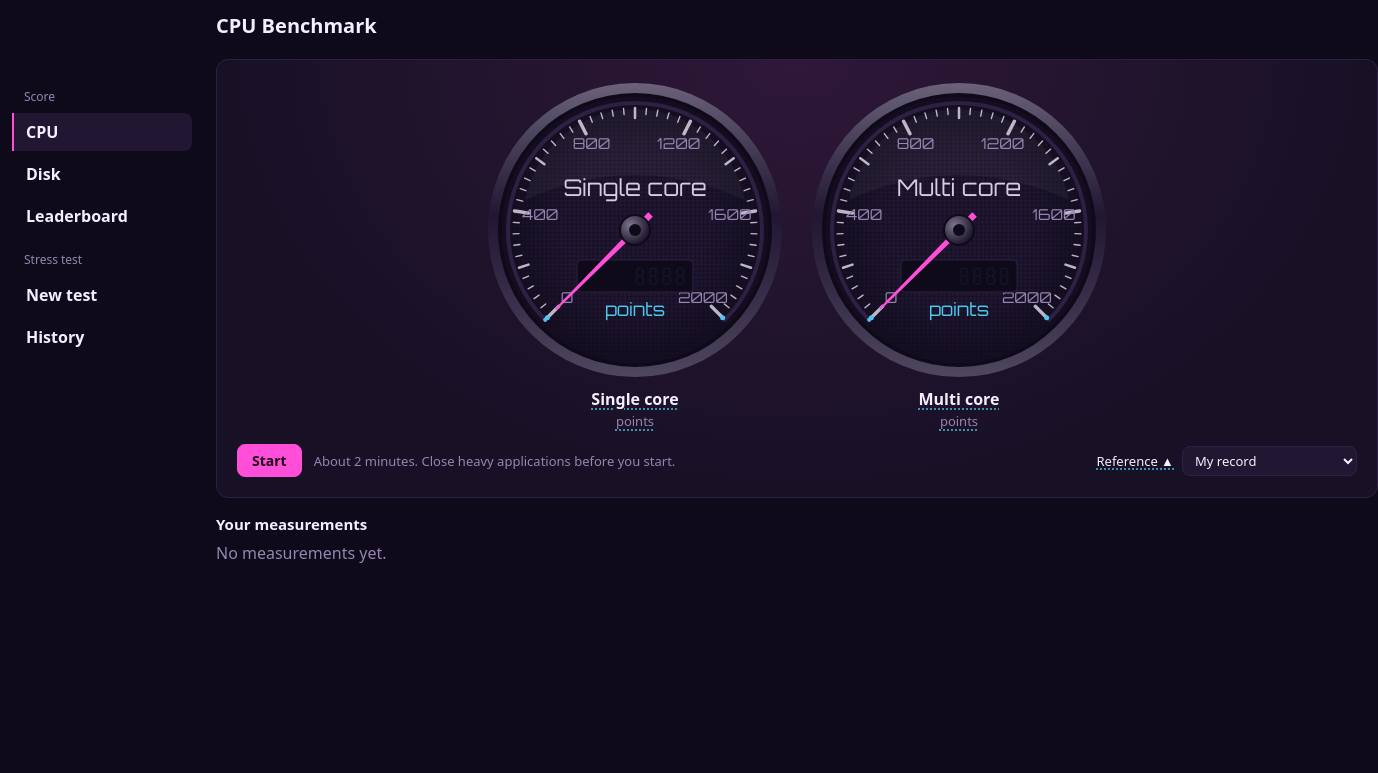
start_runs_and_shows_both_scores
The width and height of the screenshot is (1378, 773).
Expected: the heading "CPU Benchmark" is shown, [216,12,377,39]
Step 1. Click the button "Start" → (269, 460), box [237,444,302,477]
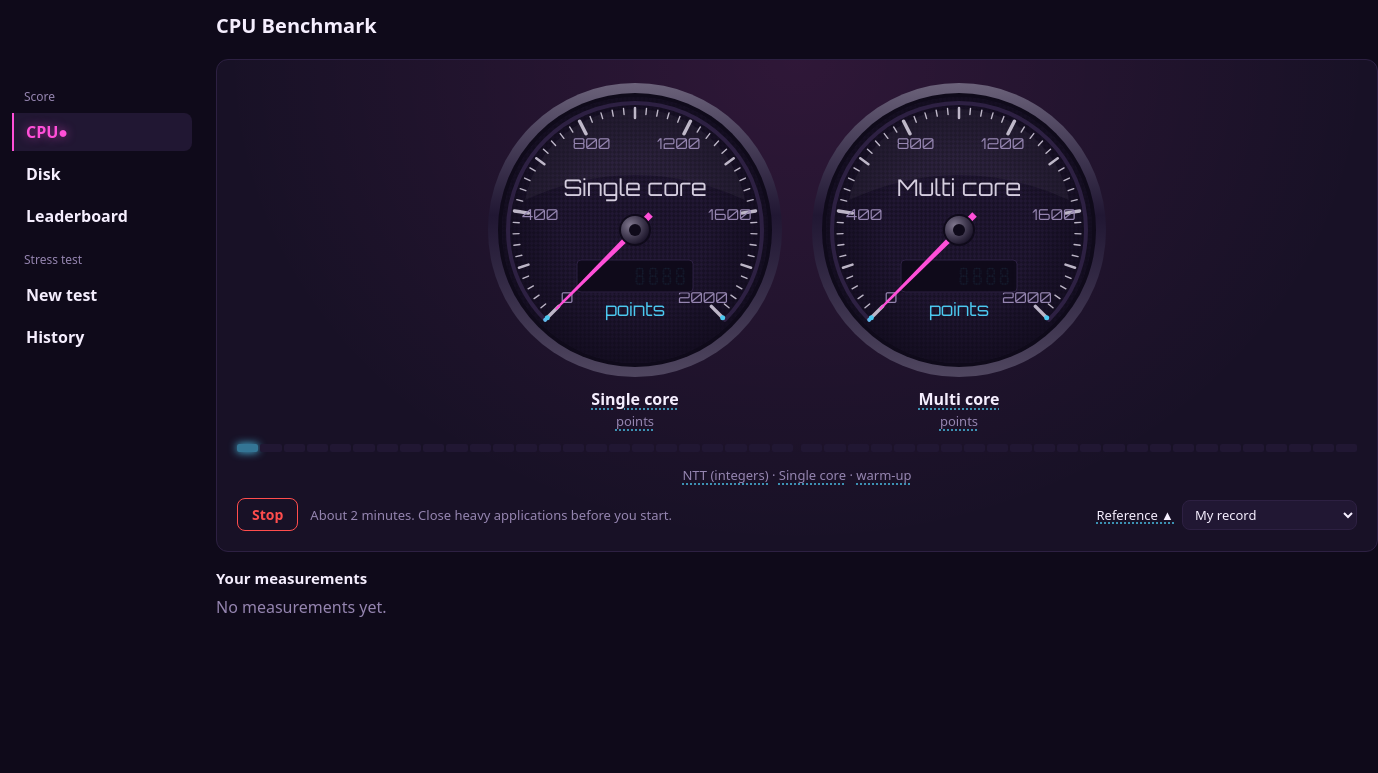
Now the button "CPU●" is shown, box [12,113,192,151]
Step 2. Click the button "Stop" → (268, 514), box [237,498,298,531]
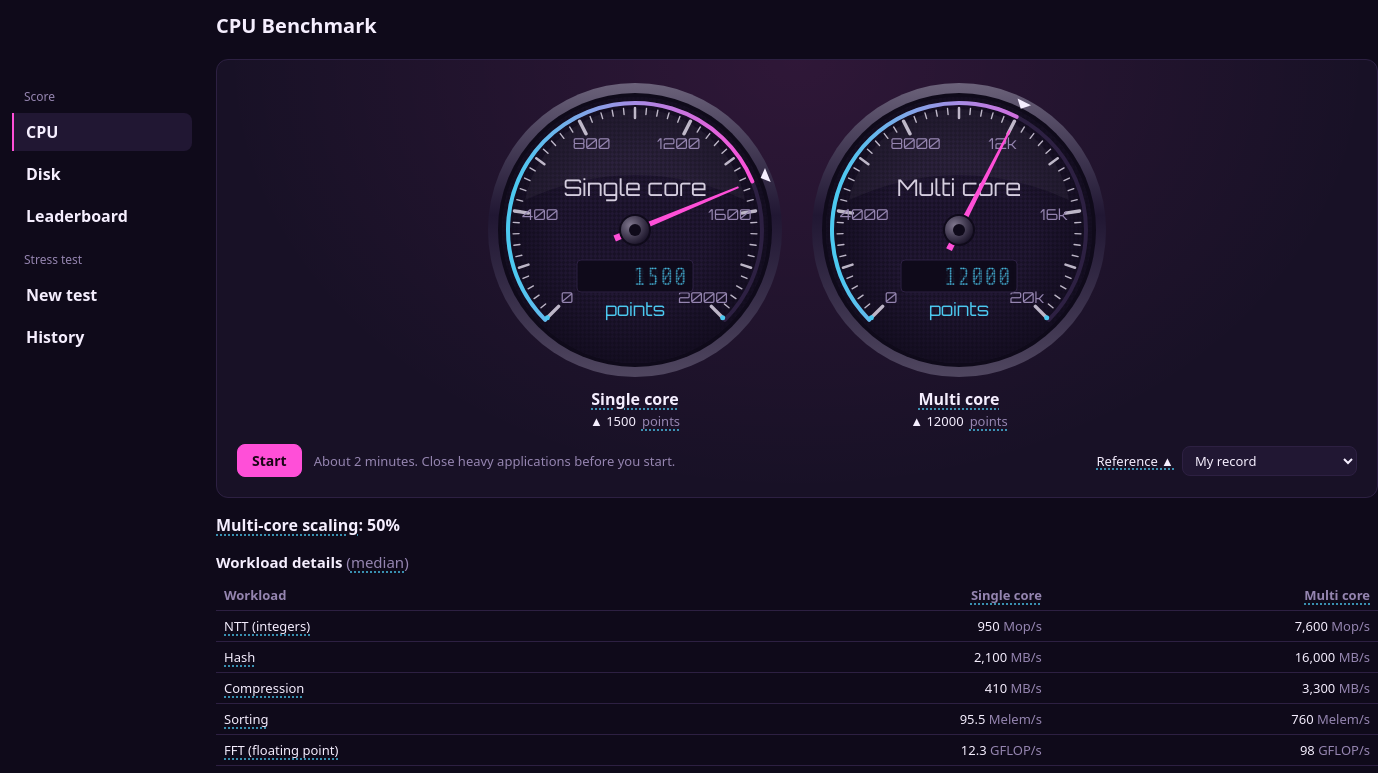
Now the text "CPU" no longer shows "●"
Now the text "NTT (integers)" shows "950", box [977,617,1003,635]
Now the text "NTT (integers)" shows "Mop/s", box [1003,617,1042,635]
